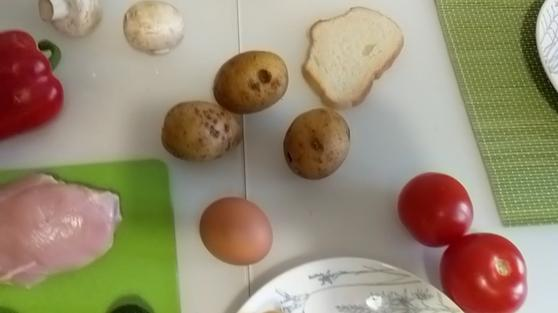champignon: (122, 1, 185, 56), (40, 1, 103, 37)
chicken_fillet: (1, 174, 122, 289)
egg: (199, 196, 273, 266)
pepper: (2, 29, 63, 143)
potato: (284, 108, 351, 179), (162, 101, 244, 159), (214, 51, 288, 113)
tomato: (440, 231, 529, 313), (400, 172, 473, 247)
white_bread: (304, 4, 405, 108)
